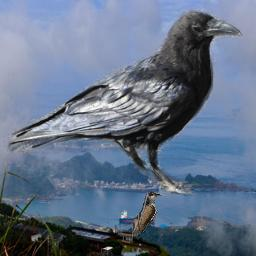Crow: (3, 7, 243, 196)
Cuckoo: (132, 192, 169, 239)
